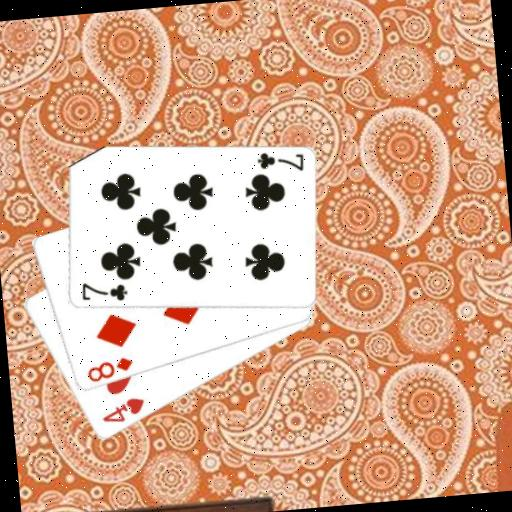4H: (97, 395, 147, 427)
7C: (254, 146, 307, 176), (77, 277, 129, 306)
8D: (83, 354, 136, 385)
